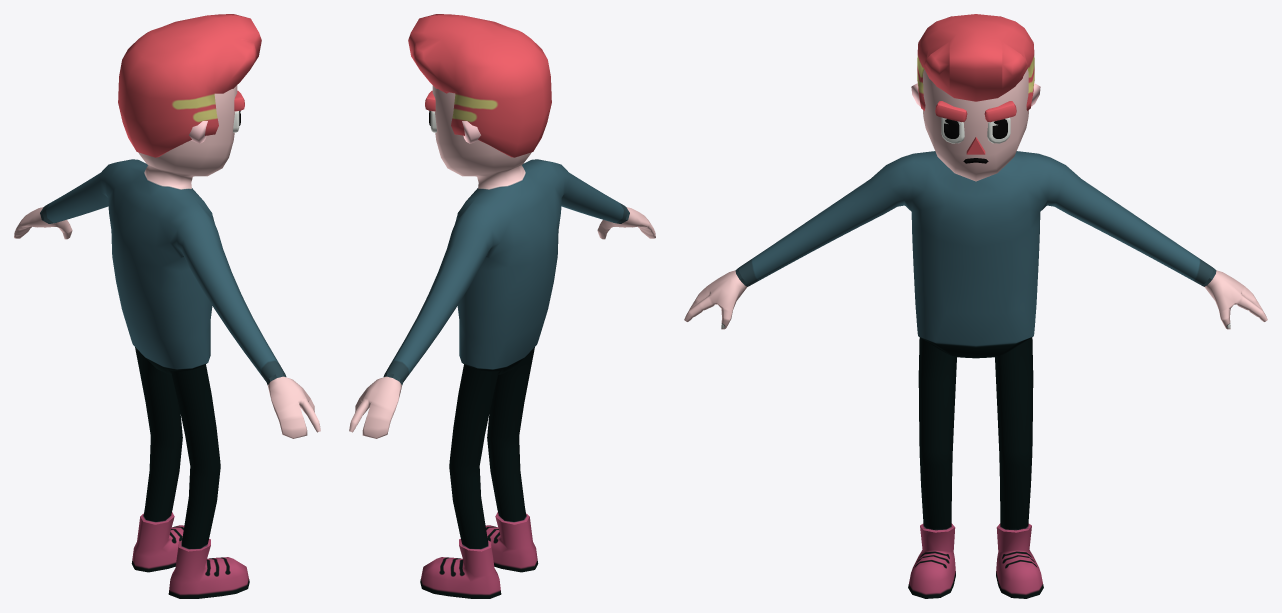
File: scene_TMFwnbc7Ko.glb
3 views of the same model, side by side, from view 1: azimuth 30°, elevation 25°; view 2: azimuth 150°, elevation 25°; view 3: azimuth 270°, elevation 25° (orthographic). The views are drawn at different scales.
Visible parts, largest first — view 1: mesh_char_001; view 2: mesh_char_001; view 3: mesh_char_001.
Boxes of the visible parts, left/top/right/bottom form: mesh_char_001: left=14, top=14, right=320, bottom=598; mesh_char_001: left=349, top=14, right=655, bottom=598; mesh_char_001: left=684, top=14, right=1267, bottom=598.
Size of the model in its own units: 1.1 by 4.39 by 4.11.
1 material, 1 textured.
